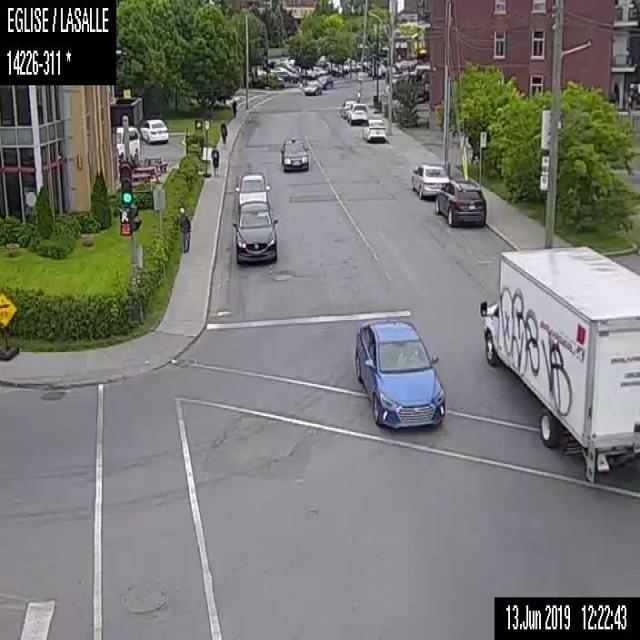pedestrian: (180, 212, 191, 253), (210, 146, 220, 178), (218, 120, 228, 148), (231, 99, 236, 120)
vehicle: (479, 243, 639, 480), (354, 316, 446, 427), (232, 201, 279, 267), (436, 178, 486, 226), (410, 162, 448, 200), (234, 169, 270, 204), (279, 135, 310, 173), (113, 126, 140, 161), (139, 117, 167, 143), (361, 118, 386, 142), (345, 102, 367, 124), (272, 67, 296, 82), (302, 79, 322, 96), (339, 99, 356, 118), (318, 73, 332, 91)
